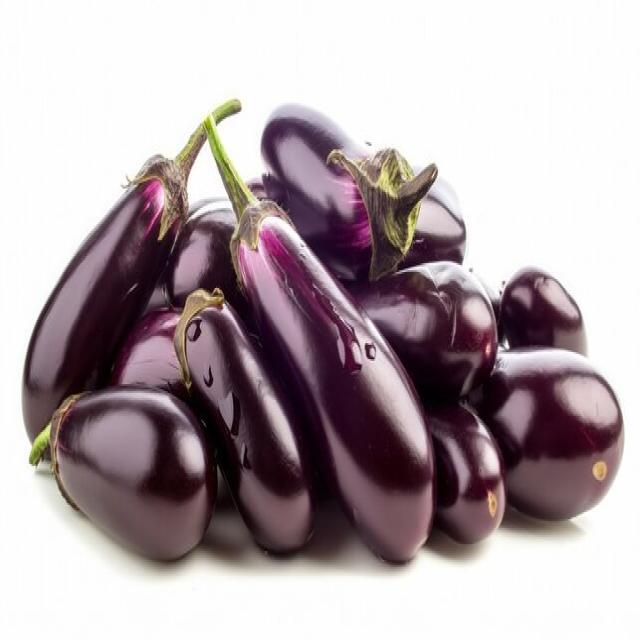Eggplant: (172, 284, 317, 556), (259, 100, 466, 282), (28, 382, 218, 562), (471, 345, 625, 521), (348, 258, 498, 400), (143, 202, 251, 314), (425, 398, 507, 544), (499, 265, 588, 357), (109, 308, 193, 400)
